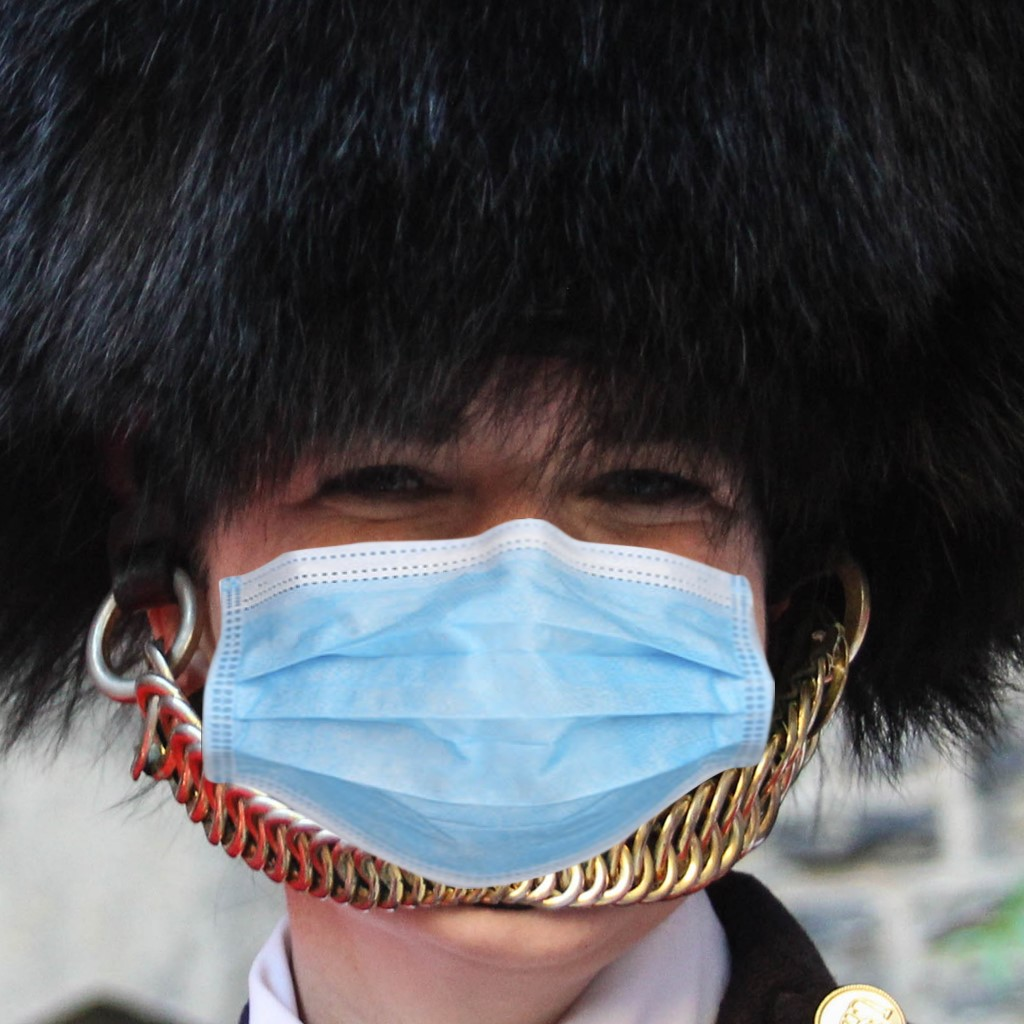con_mascara: (151, 226, 817, 948)
